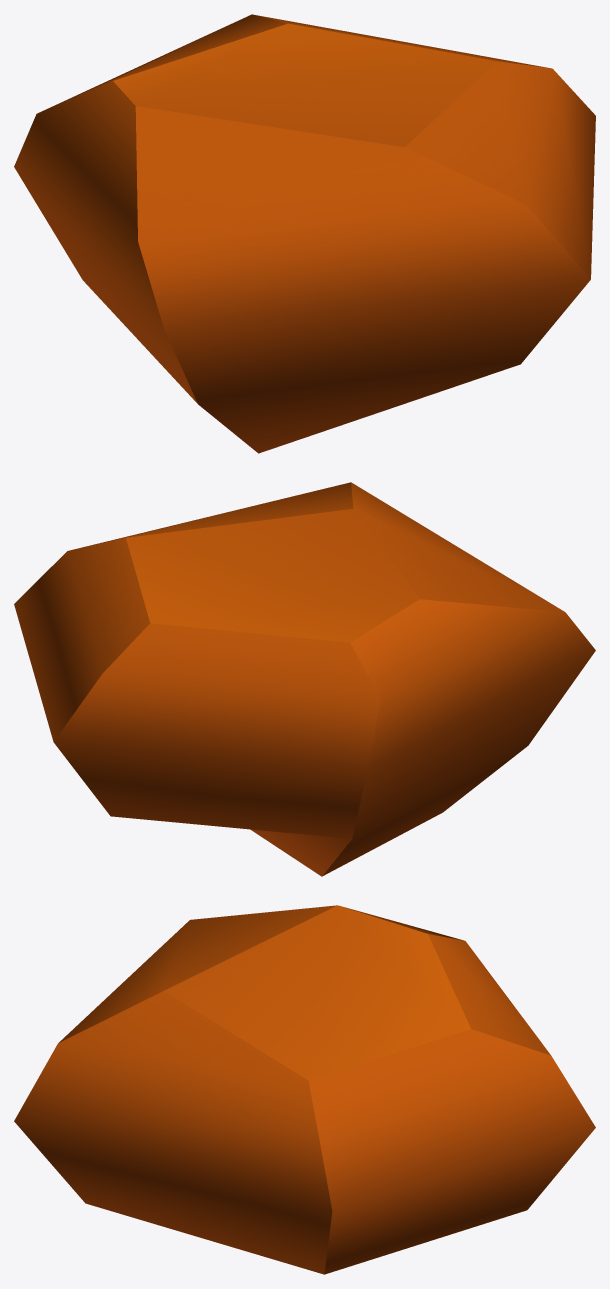
File: Desert_RoundRock03.fbx
The picture shows the model from 3 angles, top to bottom: view 1: azimuth 30°, elevation 25°; view 2: azimuth 150°, elevation 25°; view 3: azimuth 270°, elevation 25°; orthographic projection. The views are drawn at different scales.
Visible parts, largest first — view 1: Desert_RoundRock03:pCylinder1; view 2: Desert_RoundRock03:pCylinder1; view 3: Desert_RoundRock03:pCylinder1.
Boxes of the visible parts, x1,y1,x2,y2 form: Desert_RoundRock03:pCylinder1: (14,14,595,453); Desert_RoundRock03:pCylinder1: (14,482,595,876); Desert_RoundRock03:pCylinder1: (14,905,595,1274).
Bounding box in the file's own units: 2.62 × 1.41 × 2.73.
Materials: 1 (1 with a texture image).
